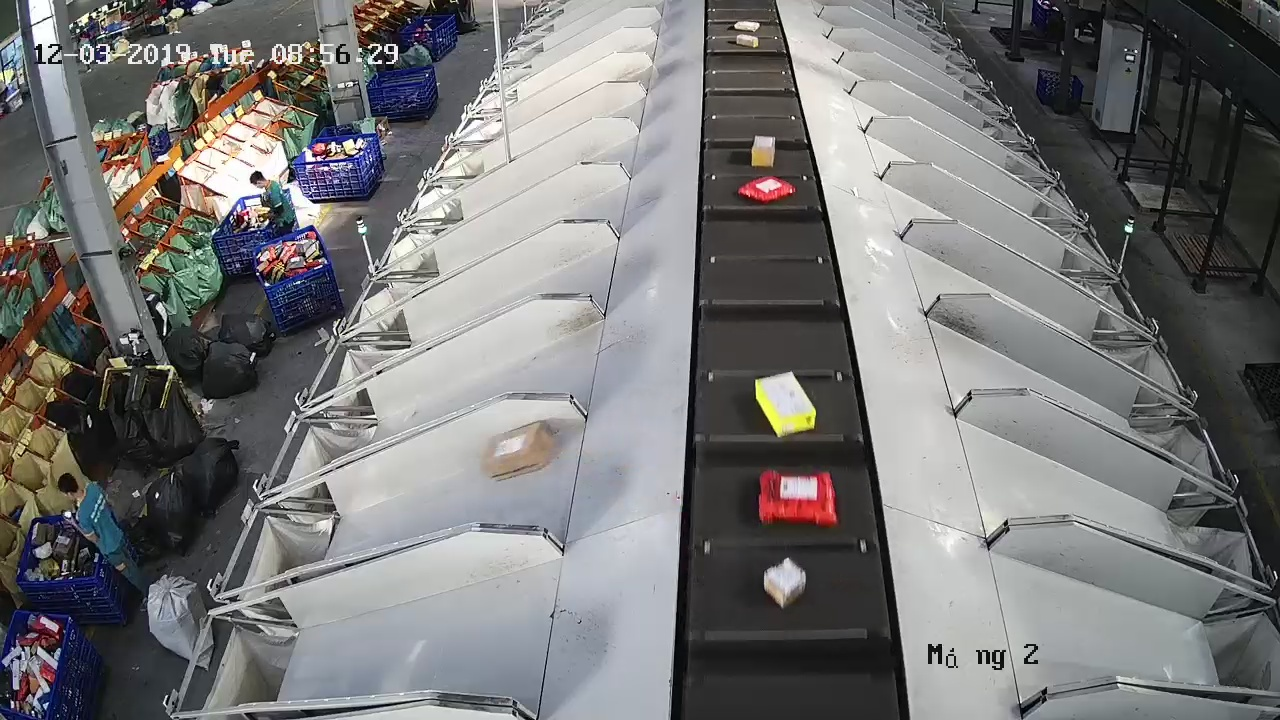parcel: (756, 468, 840, 529), (482, 418, 557, 483), (753, 369, 818, 439), (761, 555, 808, 609), (737, 175, 797, 206), (750, 133, 777, 169)
